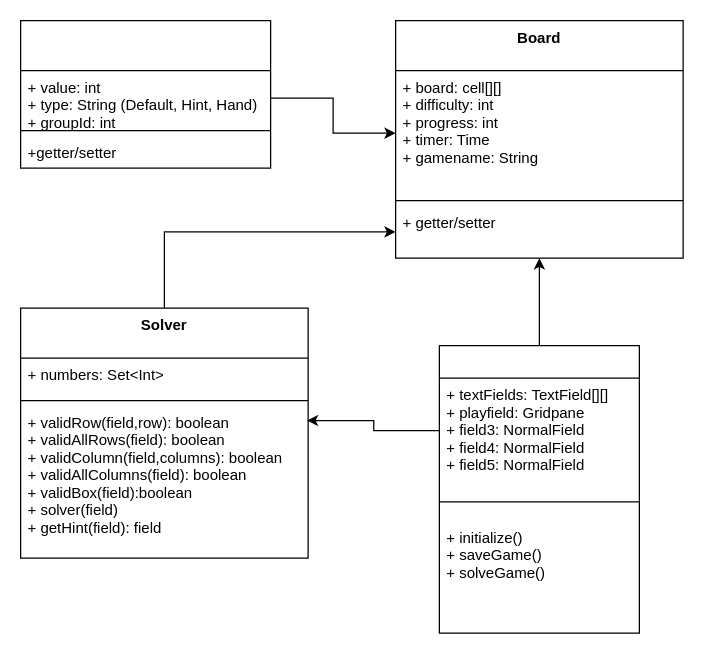
Image size: 704x654. Some labels were removed from this diagram. The box of each missing label's shape, as (x1, y1, x2, y2) in pixels:
Cell: (19, 19, 271, 168)
Controller: (438, 344, 639, 633)
